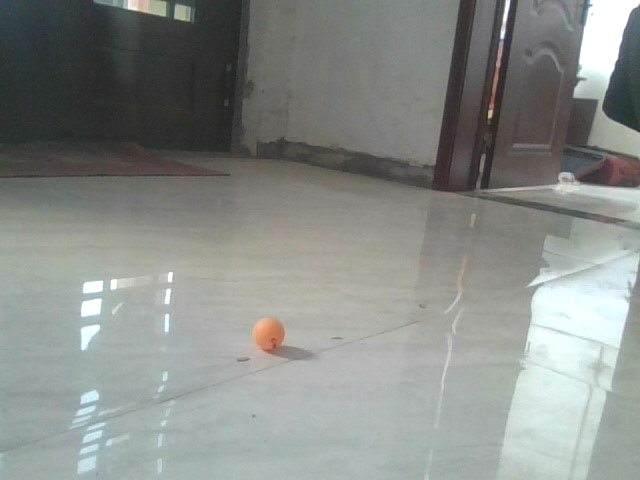ball: (254, 316, 285, 354)
